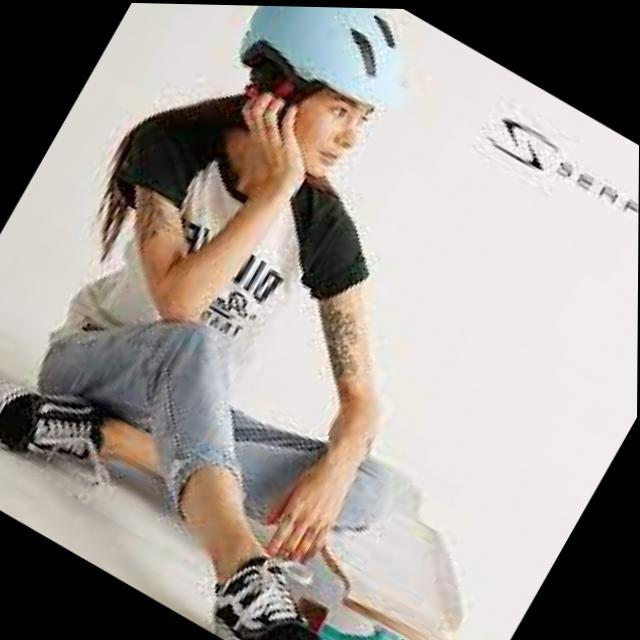Helmet: (237, 0, 406, 199)
